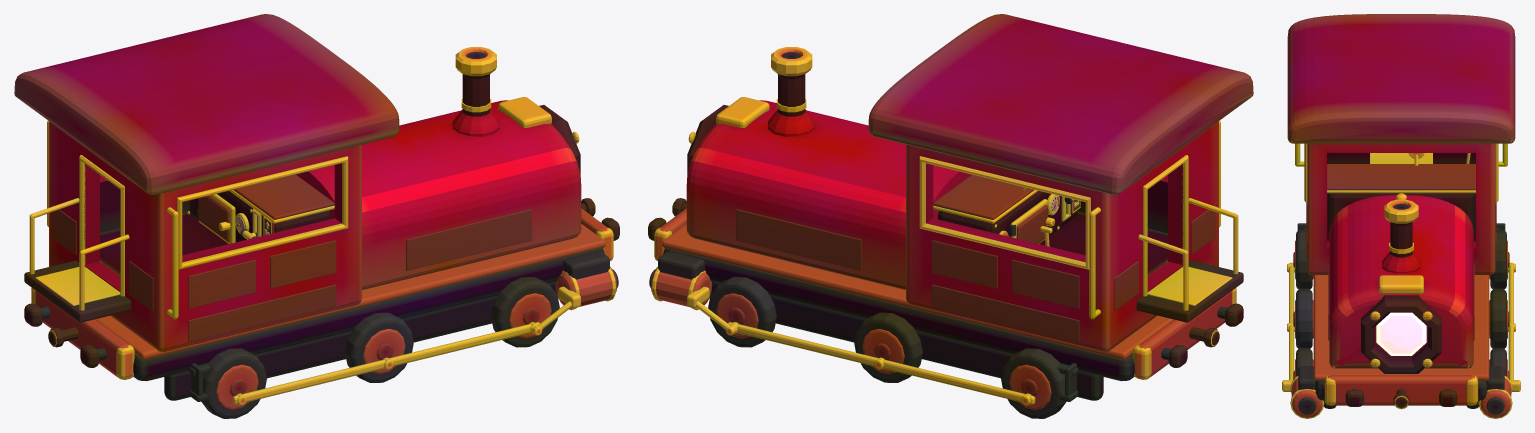
Rendered from Locomotive_Blockout.glb.
The picture shows the model from 3 angles, left to right: view 1: azimuth 30°, elevation 25°; view 2: azimuth 150°, elevation 25°; view 3: azimuth 270°, elevation 25°; orthographic projection. The views are drawn at different scales.
Parts seen in each view (by area): view 1: CabRoof, Cab, Boiler, Frame, Wheels, Firebox, Cylinders, FireboxDoor, GrabRails, HeadLight; view 2: CabRoof, Cab, Boiler, Frame, Wheels, Firebox, Cylinders, FireboxDoor, GrabRails, HeadLight; view 3: CabRoof, Boiler, Frame, Cab, Firebox, Wheels, HeadLight, Cylinders, GrabRails, Coupler_Front.
Part boxes in pixels (x1,y1,x2,y2): CabRoof: [14, 14, 399, 194]; Cab: [49, 121, 361, 351]; Boiler: [296, 47, 581, 289]; Frame: [24, 198, 619, 401]; Wheels: [201, 277, 559, 418]; Firebox: [187, 174, 334, 242]; Cylinders: [537, 251, 618, 329]; FireboxDoor: [197, 194, 235, 243]; GrabRails: [47, 120, 178, 319]; HeadLight: [539, 105, 580, 174]; CabRoof: [868, 14, 1253, 194]; Cab: [906, 121, 1218, 351]; Boiler: [686, 47, 971, 289]; Frame: [648, 198, 1243, 401]; Wheels: [708, 277, 1066, 418]; Firebox: [933, 174, 1080, 236]; Cylinders: [649, 251, 730, 329]; FireboxDoor: [1009, 199, 1047, 243]; GrabRails: [1089, 120, 1220, 319]; HeadLight: [687, 105, 728, 174]; CabRoof: [1287, 14, 1515, 143]; Boiler: [1328, 193, 1474, 368]; Frame: [1297, 153, 1505, 408]; Cab: [1304, 143, 1498, 275]; Firebox: [1327, 153, 1475, 235]; Wheels: [1287, 229, 1515, 379]; HeadLight: [1361, 295, 1441, 373]; Cylinders: [1282, 366, 1520, 418]; GrabRails: [1295, 143, 1507, 166]; Coupler_Front: [1393, 388, 1409, 409].
Size of the model in its own units: 6.89 by 3.48 by 3.17.
